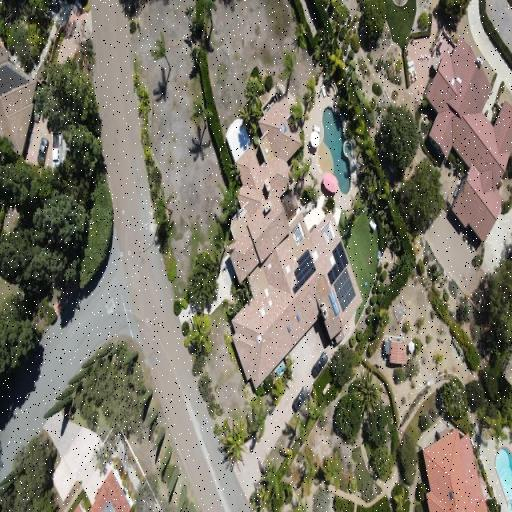solar-panel: (292, 248, 316, 295), (333, 267, 356, 312), (327, 241, 349, 286), (0, 65, 30, 97), (102, 500, 115, 512)
